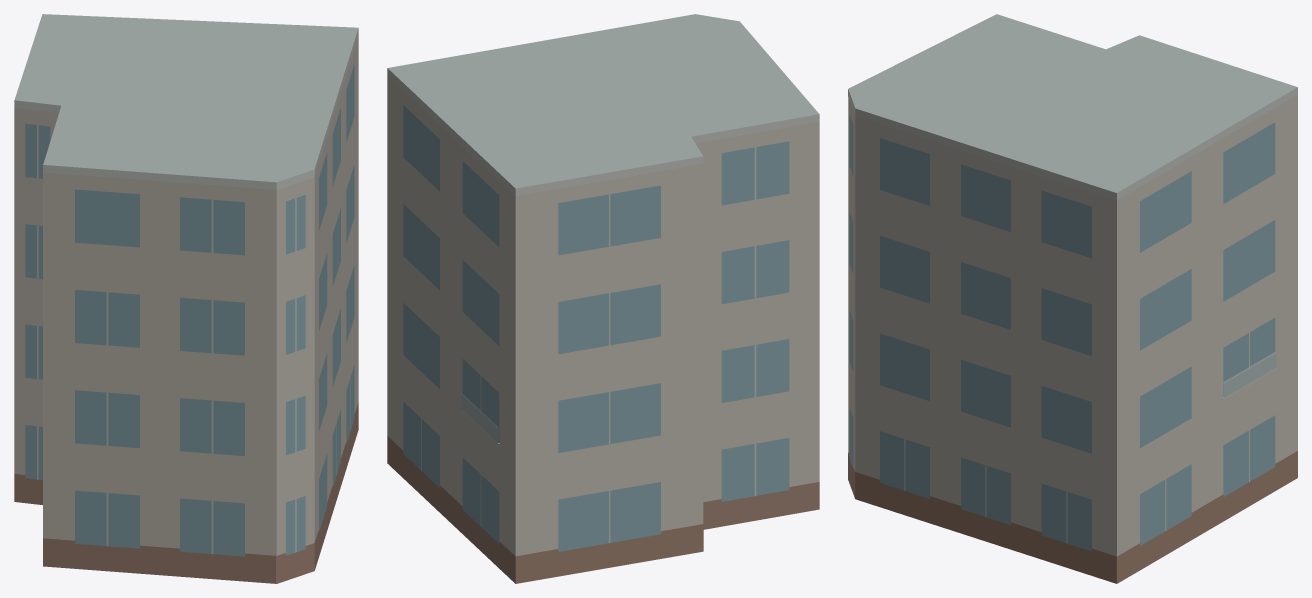
File: survey-upis-32912514.glb
The picture shows the model from 3 angles, left to right: view 1: azimuth 30°, elevation 25°; view 2: azimuth 150°, elevation 25°; view 3: azimuth 270°, elevation 25°; orthographic projection. The views are drawn at different scales.
Visible parts, largest first — view 1: survey-upis-32912514.tmp; view 2: survey-upis-32912514.tmp; view 3: survey-upis-32912514.tmp.
Boxes of the visible parts, left/top/right/bottom form: survey-upis-32912514.tmp: left=14, top=14, right=358, bottom=583; survey-upis-32912514.tmp: left=387, top=14, right=819, bottom=583; survey-upis-32912514.tmp: left=848, top=14, right=1297, bottom=583.
Size of the model in its own units: 12.59 by 12.8 by 13.36.
